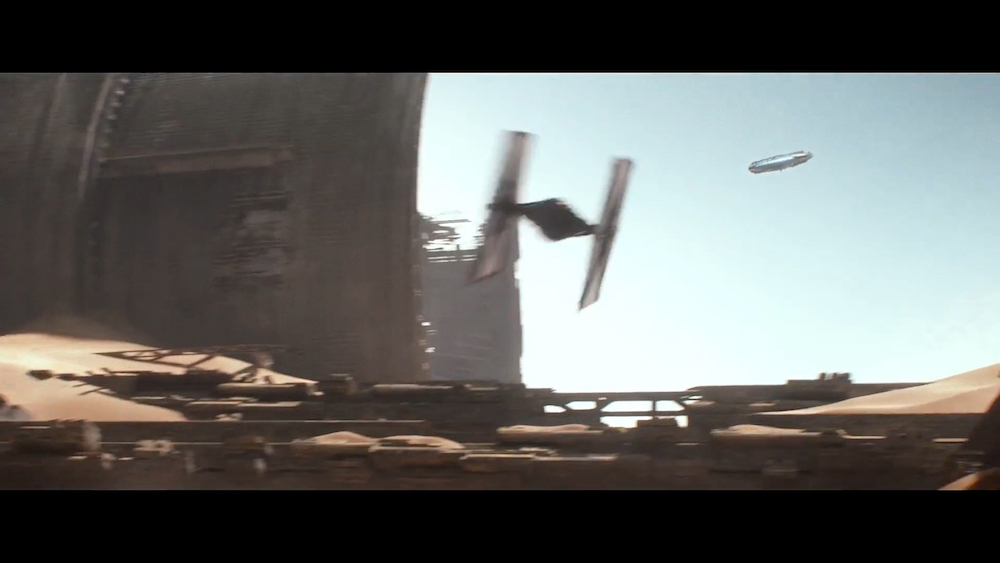Millennium Falcon: (747, 149, 815, 177)
Tie Fighter: (464, 132, 637, 313)
